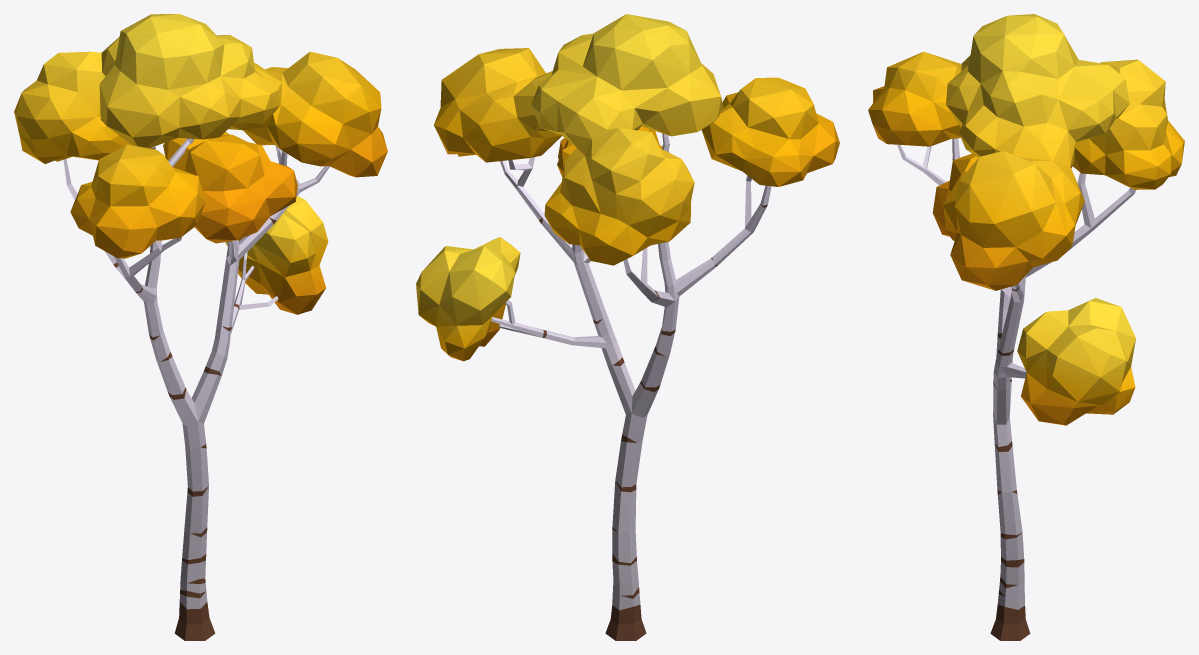
Rendered from Tree_Birch_03.fbx.
3 views of the same model, side by side, from view 1: azimuth 30°, elevation 25°; view 2: azimuth 150°, elevation 25°; view 3: azimuth 270°, elevation 25° (orthographic). The views are drawn at different scales.
Visible parts, largest first — view 1: Tree_Birch_03; view 2: Tree_Birch_03; view 3: Tree_Birch_03.
Part boxes in pixels (x1,y1,x2,y2): Tree_Birch_03: [14, 14, 387, 640]; Tree_Birch_03: [416, 14, 839, 640]; Tree_Birch_03: [868, 14, 1184, 640].
Size of the model in its own units: 535 by 940 by 448.
